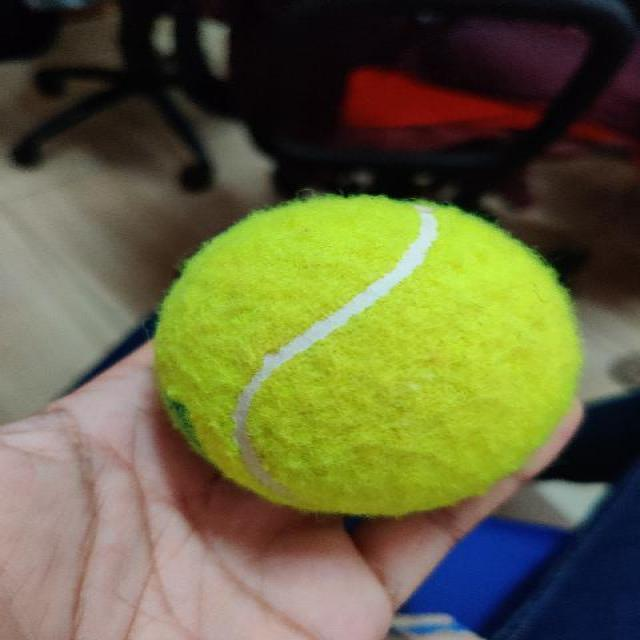tennis-ball: (157, 198, 577, 514)
